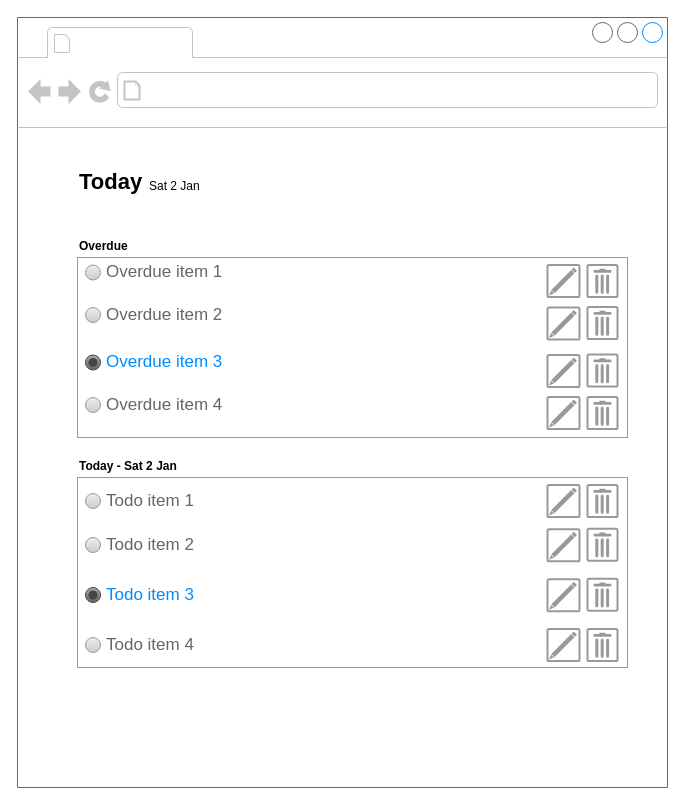
This 685x805 diagram has some shape labels left out. Here are the shapes that lost their labels. From the top down, the box of each, then its label:
(76, 28, 188, 56): Page 1
(146, 76, 468, 104): https://www.todo-app-lp.netlify.app/home
